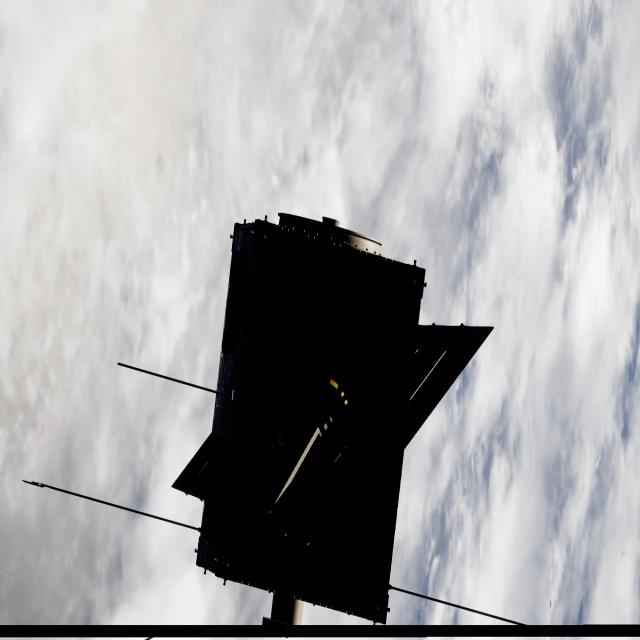medium_debris: (175, 214, 493, 625)
